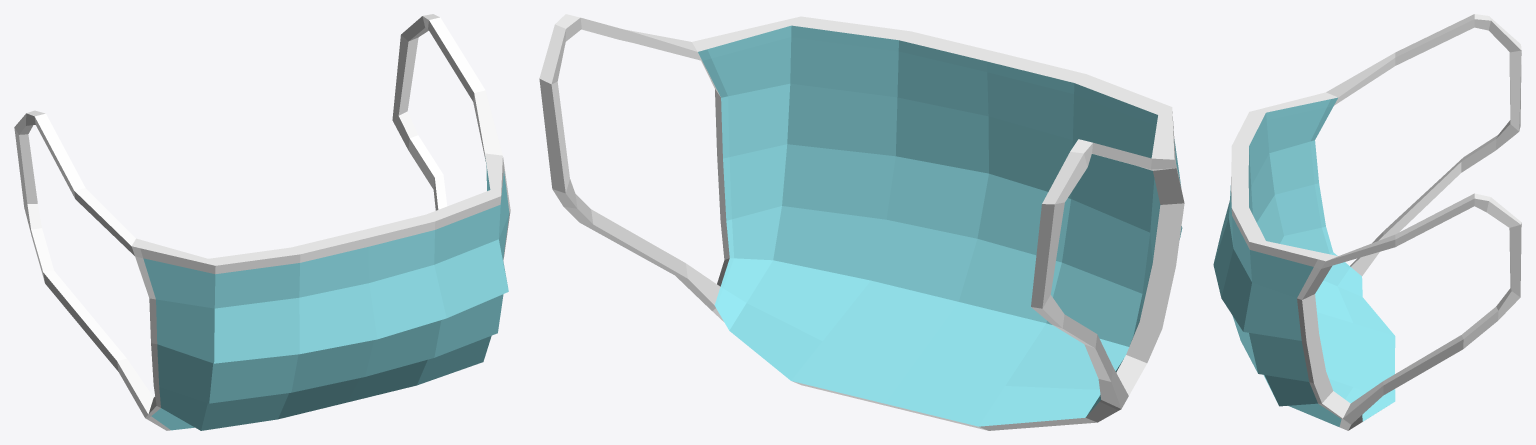
The model's file is actualMask.fbx.
3 renders of one model, left to right at view 1: azimuth 30°, elevation 25°; view 2: azimuth 150°, elevation 25°; view 3: azimuth 270°, elevation 25°, orthographic. The views are drawn at different scales.
Parts seen in each view (by area): view 1: Cube; view 2: Cube; view 3: Cube.
Boxes of the visible parts, x1=… form: Cube: x1=14, y1=14, x2=510, y2=430; Cube: x1=539, y1=14, x2=1184, y2=430; Cube: x1=1213, y1=14, x2=1521, y2=430.
Bounding box in the file's own units: 63.8 × 43.06 × 44.39.
